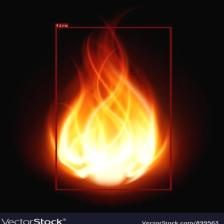fire: (55, 27, 171, 190)
